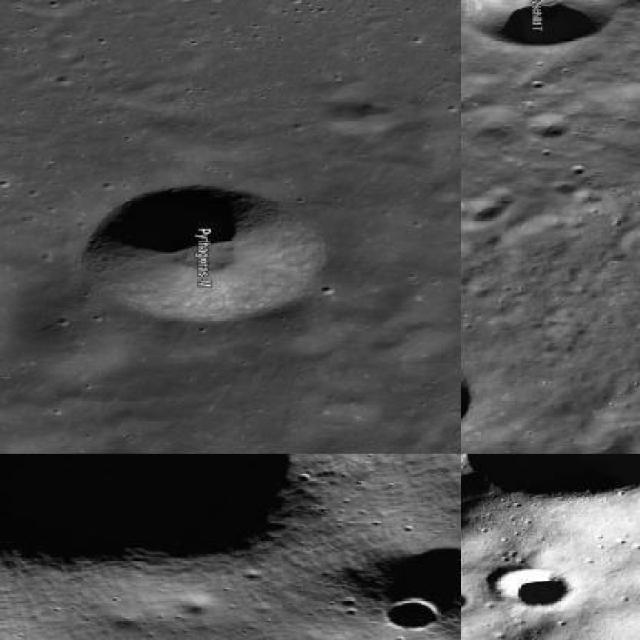crater: (0, 454, 305, 577), (88, 190, 322, 318), (460, 454, 638, 503), (460, 0, 617, 48), (491, 568, 572, 608), (383, 597, 442, 631)
